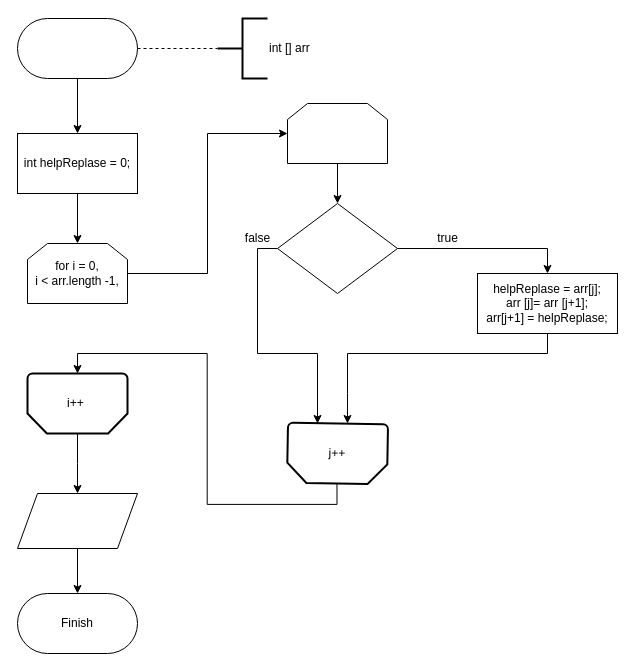
The diagram is 635 pixels wide and 671 high, and some of its shapes have lost their labels. Each missing label, with the box of its shape:
arr [j] > arr [j+1]: (276, 202, 398, 294)
for j = 0, j < arr.length,: (286, 102, 388, 164)
out sorted arr: (16, 492, 138, 548)
Start: (16, 18, 138, 78)
